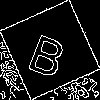B: (25, 25, 73, 79)
